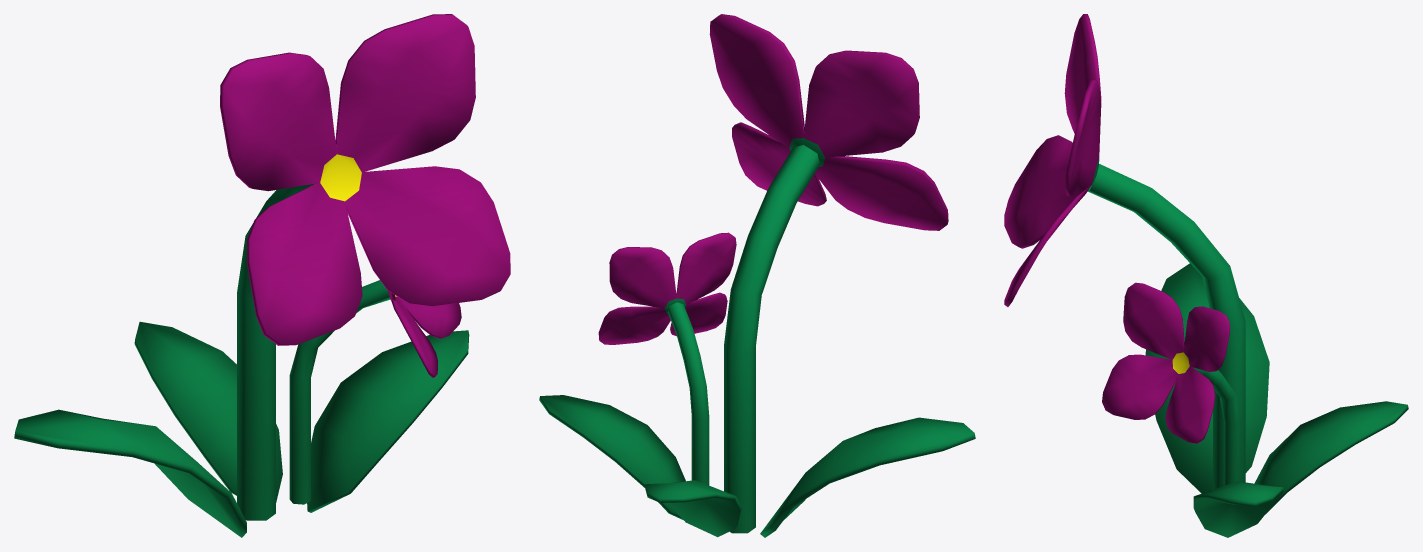
File: Flover_03.03.fbx
3 renders of one model, left to right at view 1: azimuth 30°, elevation 25°; view 2: azimuth 150°, elevation 25°; view 3: azimuth 270°, elevation 25°, orthographic. The views are drawn at different scales.
Visible parts, largest first — view 1: Flover_03.03; view 2: Flover_03.03; view 3: Flover_03.03.
Part boxes in pixels (box(x1,y1,x2,y2)): Flover_03.03: box(14, 14, 510, 537); Flover_03.03: box(539, 14, 975, 537); Flover_03.03: box(1004, 14, 1408, 537).
Bounding box in the file's own units: 38.34 × 32.56 × 40.9.
